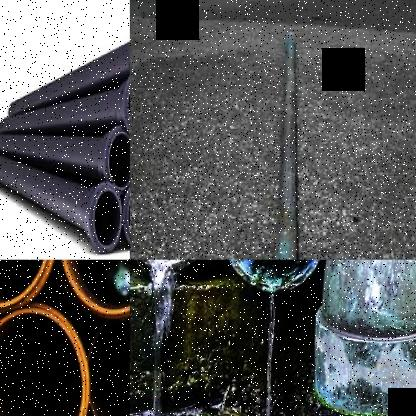pipe: (0, 308, 89, 416), (88, 310, 130, 416), (58, 260, 130, 316), (218, 260, 327, 292), (0, 260, 52, 308), (89, 183, 122, 254), (104, 127, 130, 194), (122, 179, 130, 249), (123, 69, 130, 139)
